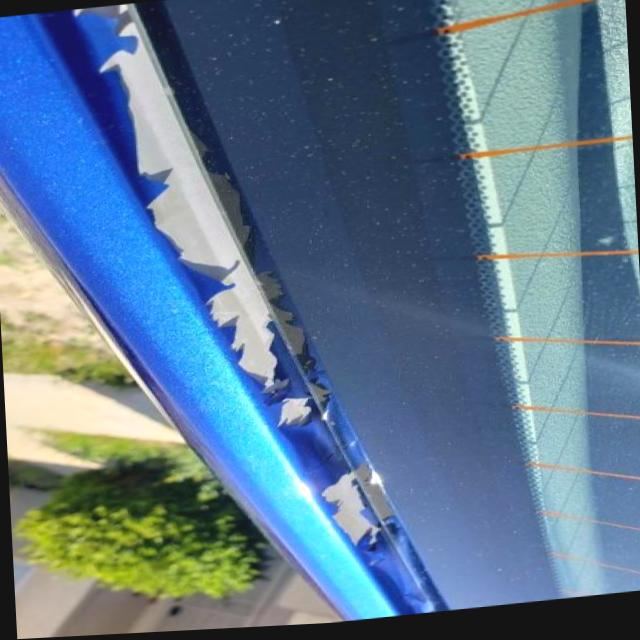Paint-fading: (46, 1, 340, 432), (311, 457, 407, 557)
